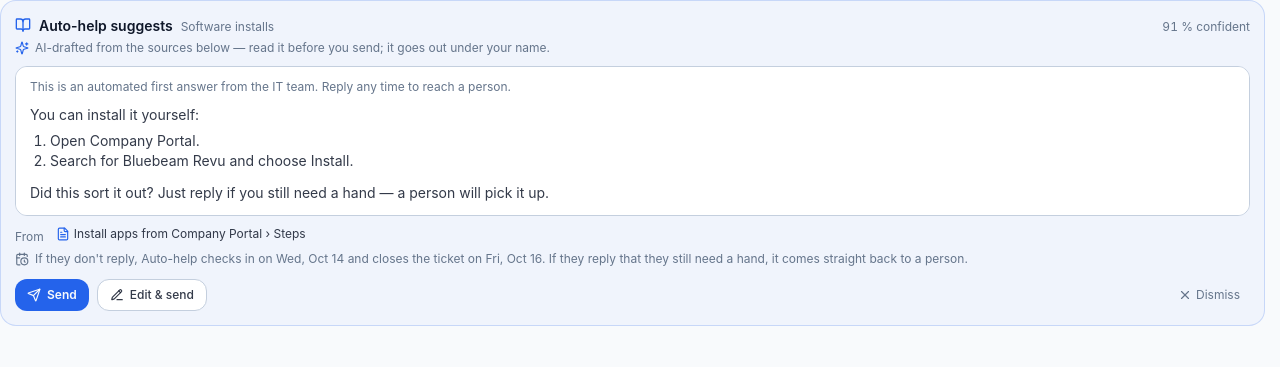
Auto-help suggestion — safety and wording › raw transport errors become sentences an agent can act on
Click the button "Send": [52, 295] box [15,279,89,311]
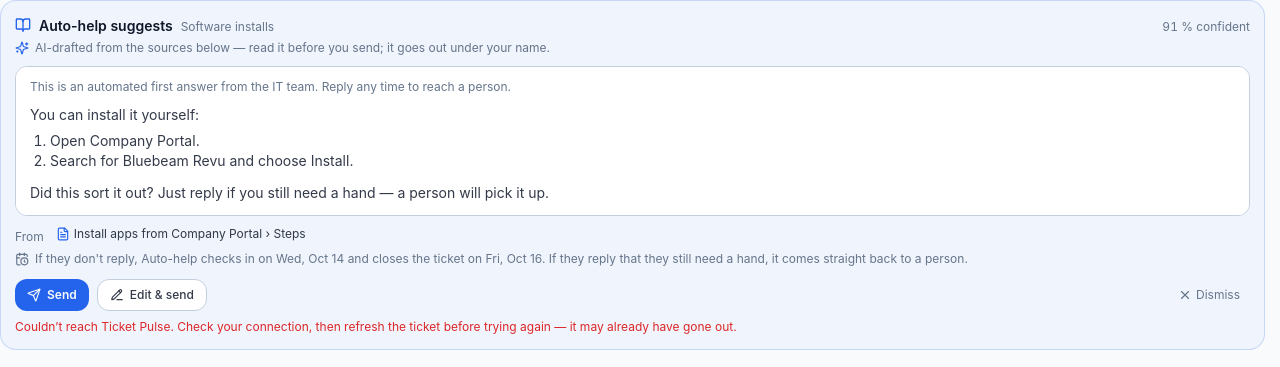
Now the message shows "Couldn.t reach Ticket Pulse", box [15,319,737,334]
